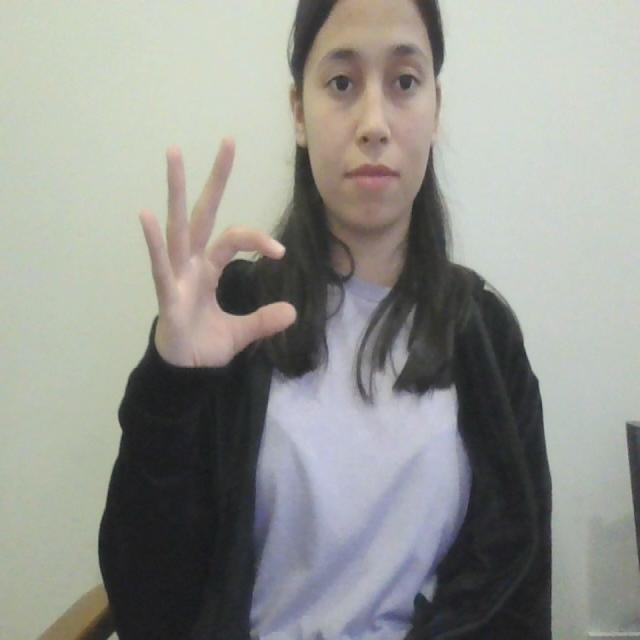Tuvalet: (111, 110, 330, 437)
